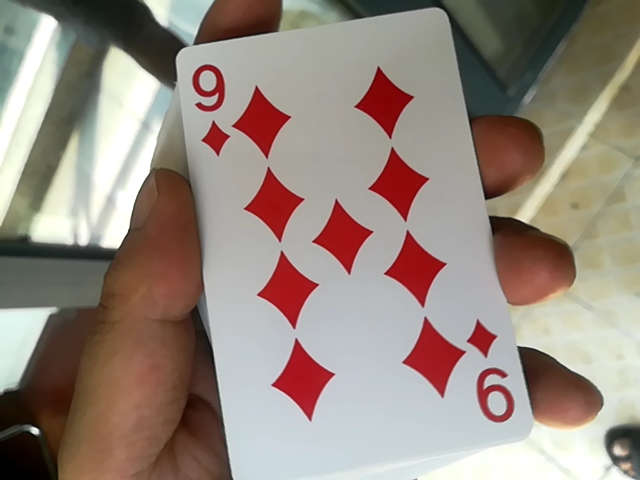fk 9: (158, 7, 516, 477)
